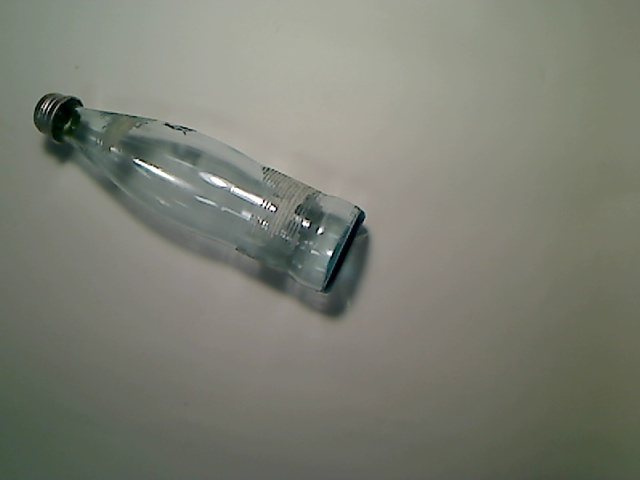bottle: (32, 91, 368, 295)
